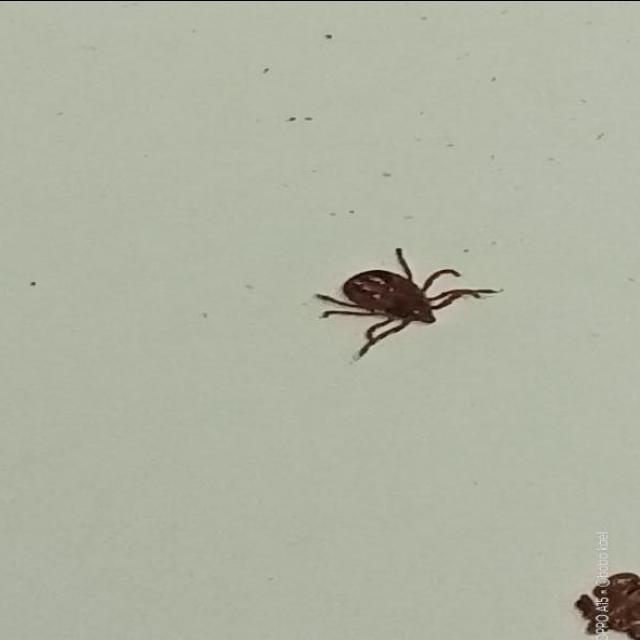Rhipicephalus Sanguineus-M: (317, 246, 504, 362)
